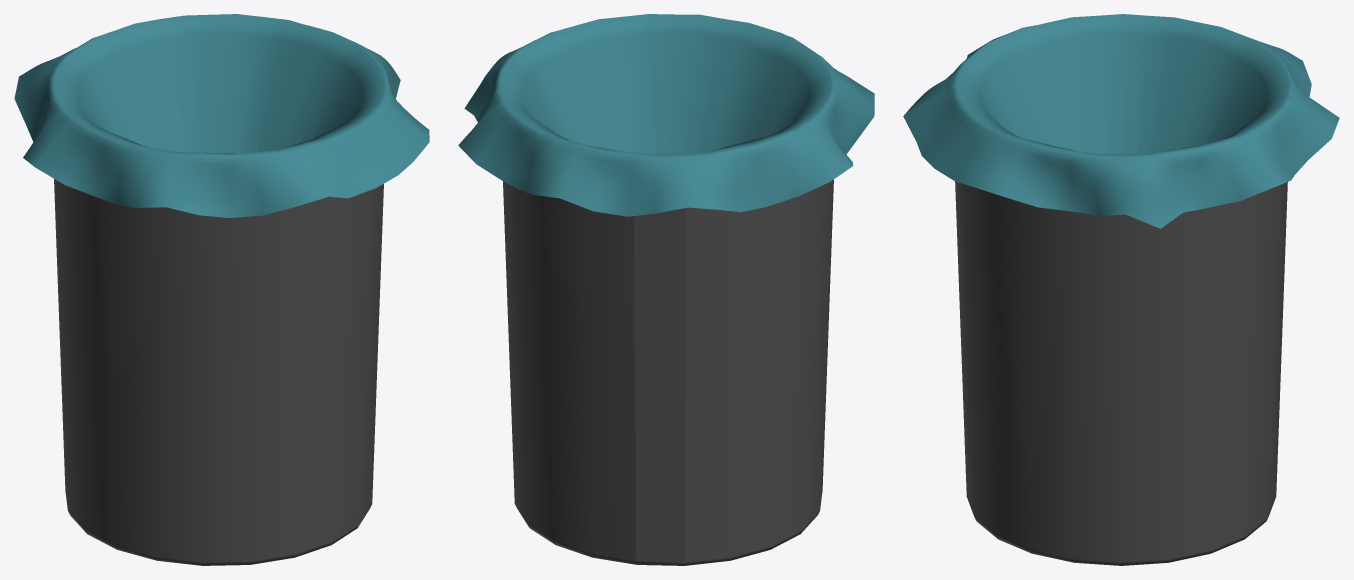
The model's file is gog_mülleimer-body_mesh.fbx.
3 views of the same model, side by side, from view 1: azimuth 30°, elevation 25°; view 2: azimuth 150°, elevation 25°; view 3: azimuth 270°, elevation 25° (orthographic).
Parts seen in each view (by area): view 1: polySurface226; view 2: polySurface226; view 3: polySurface226.
Part boxes in pixels (x1=…): polySurface226: x1=14, y1=14, x2=429, y2=565; polySurface226: x1=458, y1=14, x2=874, y2=565; polySurface226: x1=903, y1=14, x2=1339, y2=565.
Size of the model in its own units: 75.41 by 82.18 by 77.23.
